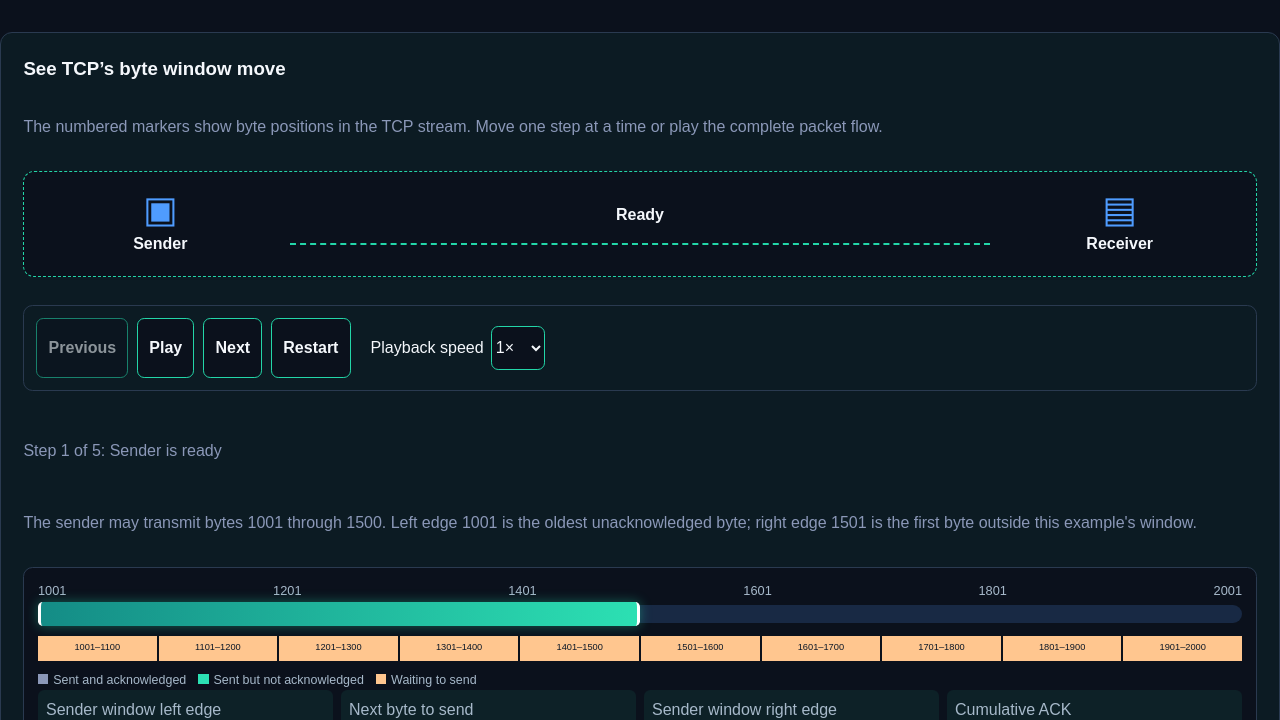
Test: TcpWindowPlayer › starts paused in reduced motion and records progress at the terminal state
Expected: the button "Play" is enabled, [137,318,194,378]
Click the button "Next" at (233, 348), box [203,318,262,378]
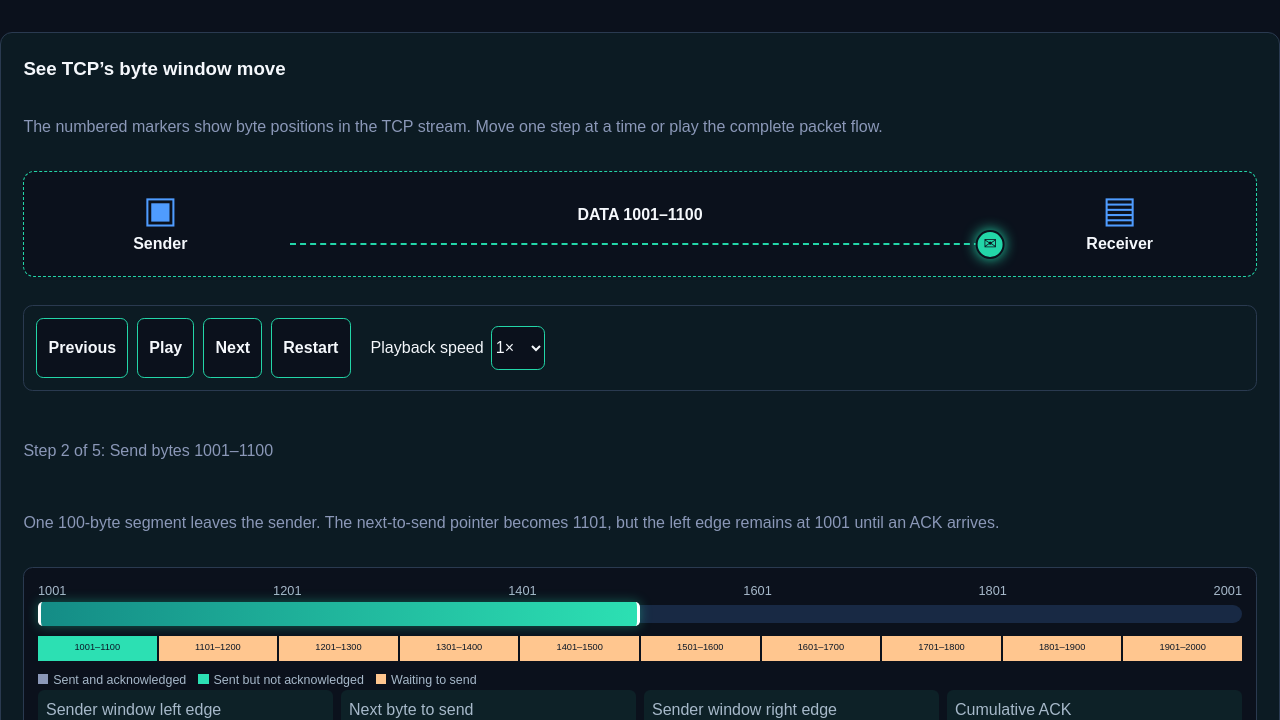
Click the button "Next" at (233, 348), box [203,318,262,378]
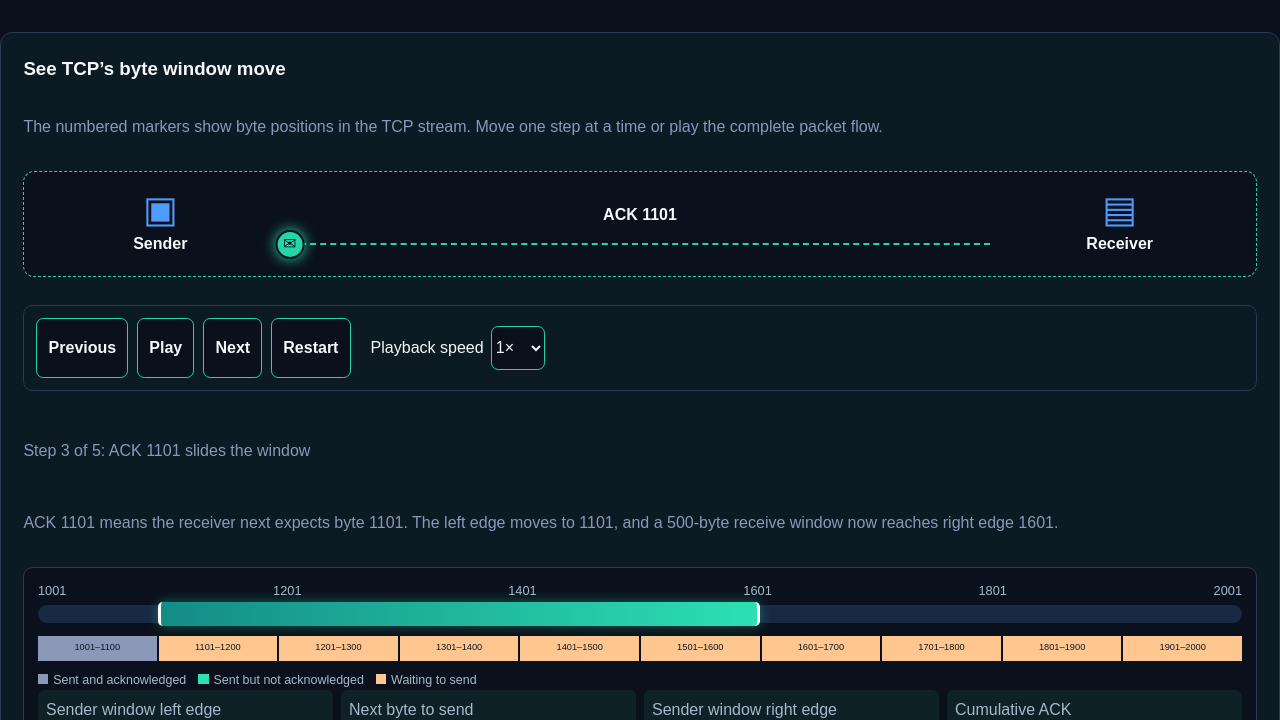
Click the button "Next" at (233, 348), box [203,318,262,378]
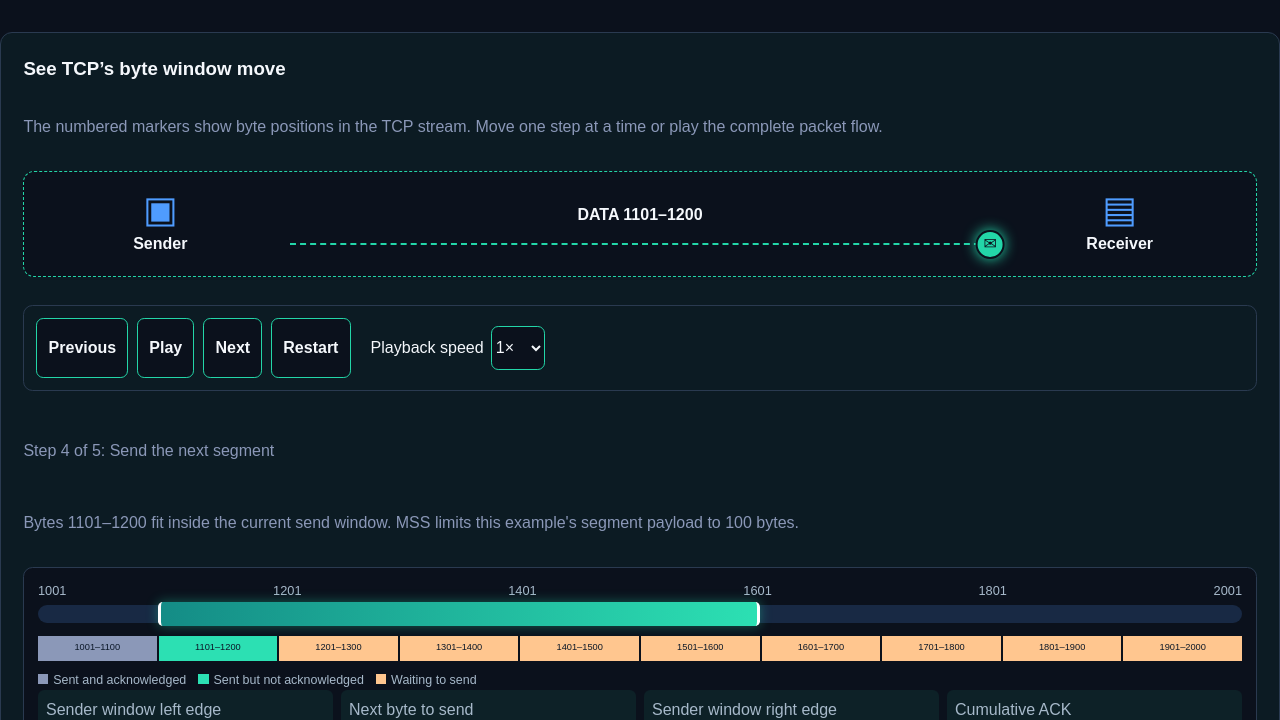
Click the button "Next" at (233, 348), box [203,318,262,378]
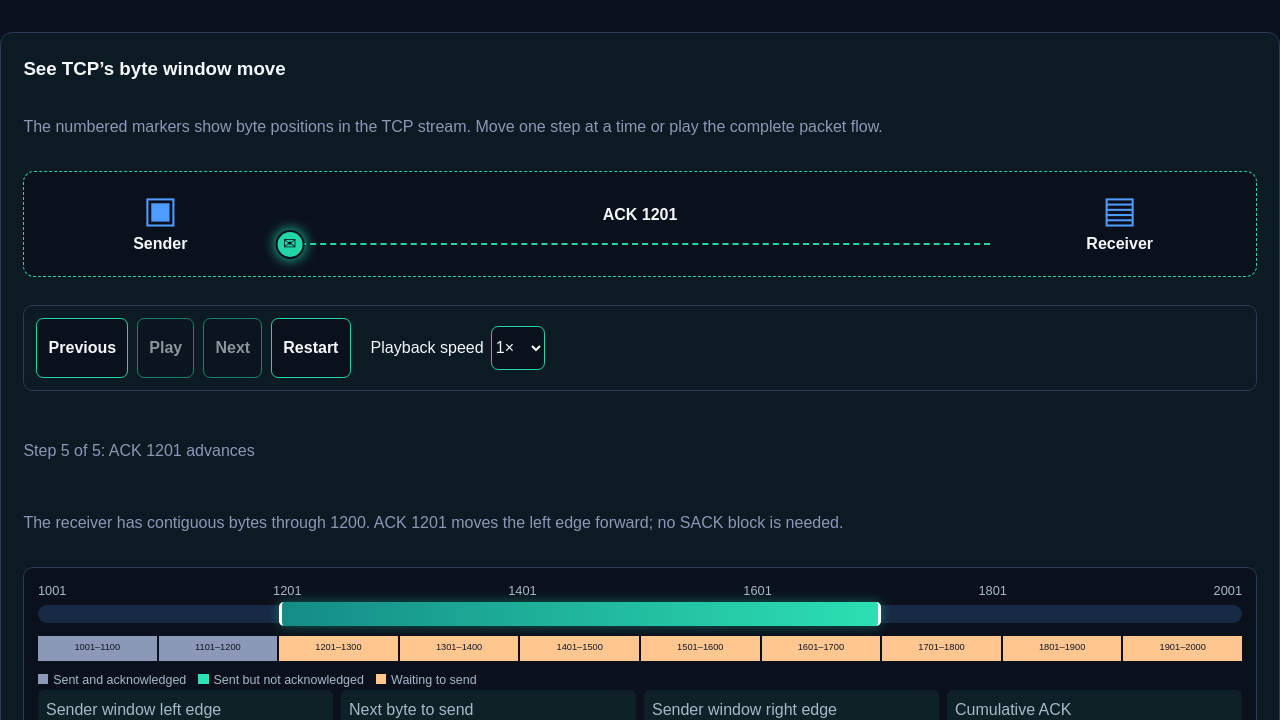
Click the button "Restart" at (311, 348), box [271,318,351,378]
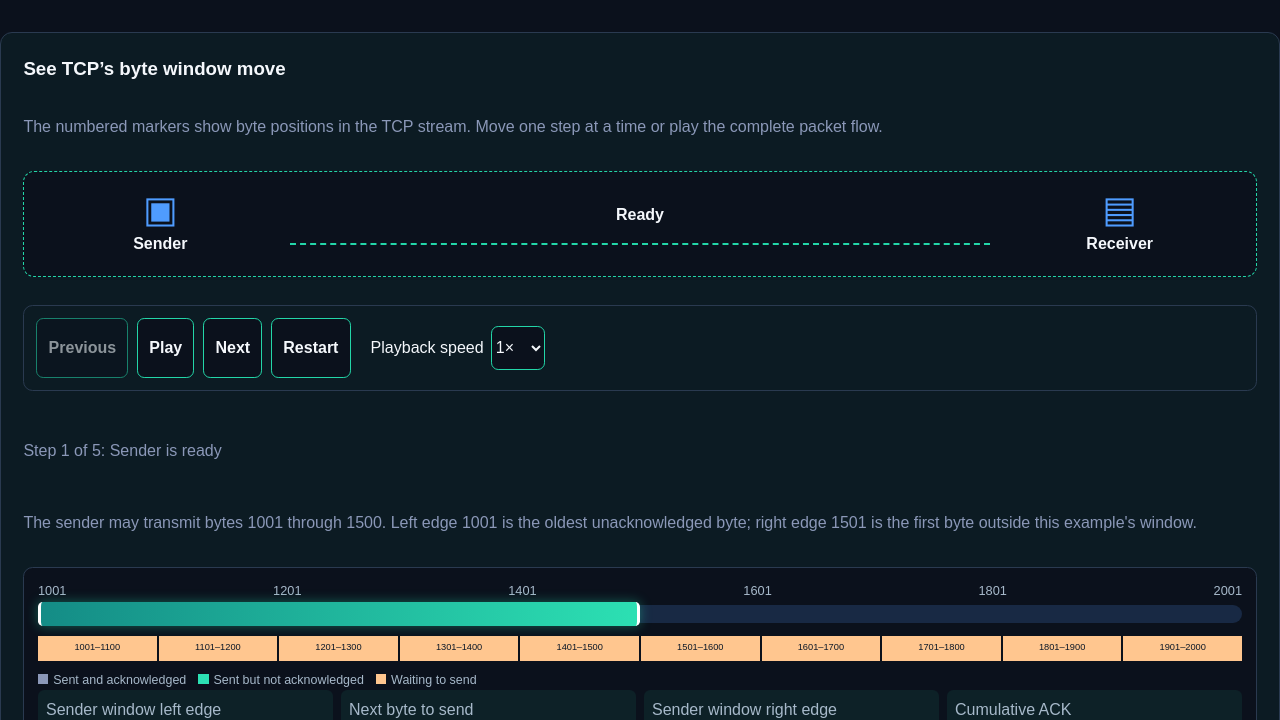
Expected: the message shows "Step 1", [23,442,222,459]
